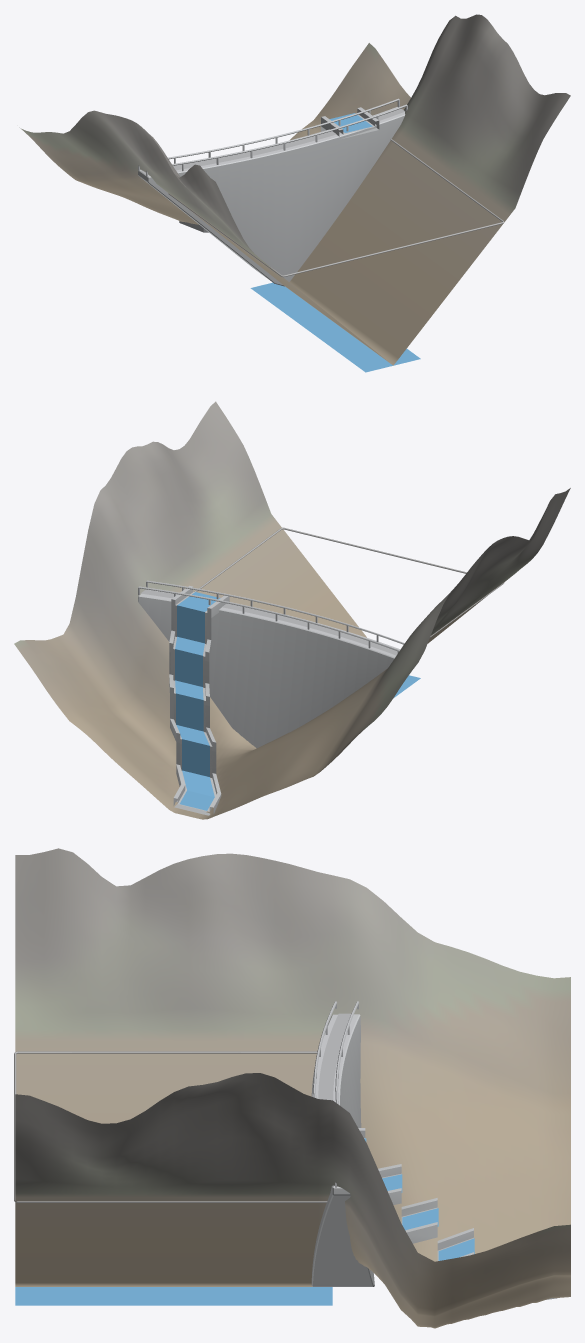
Rendered from dam.glb.
The picture shows the model from 3 angles, top to bottom: view 1: azimuth 30°, elevation 25°; view 2: azimuth 150°, elevation 25°; view 3: azimuth 270°, elevation 25°; orthographic projection. The views are drawn at different scales.
Visible parts, largest first — view 1: Basin, Wall, WaterUp, RimLastYear, Spillway; view 2: Basin, Wall, WaterDown, Spillway, RimLastYear; view 3: Basin, Wall, WaterUp, RimLastYear, Spillway, WaterDown.
Part boxes in pixels (box(x1,y1,x2,y2)): Basin: box(19, 14, 570, 365); Wall: box(138, 98, 407, 286); WaterUp: box(250, 282, 420, 372); RimLastYear: box(168, 139, 504, 277); Spillway: box(179, 107, 379, 232); Basin: box(14, 401, 570, 819); Wall: box(138, 580, 404, 748); WaterDown: box(175, 592, 220, 810); Spillway: box(169, 585, 229, 815); RimLastYear: box(194, 527, 503, 637); Basin: box(15, 848, 570, 1328); Wall: box(311, 1001, 374, 1286); WaterUp: box(15, 1287, 332, 1305); RimLastYear: box(14, 1051, 327, 1202); Spillway: box(358, 1128, 557, 1299); WaterDown: box(364, 1138, 474, 1260).
Bounding box in the file's own units: 6.4 × 4.17 × 6.31.
